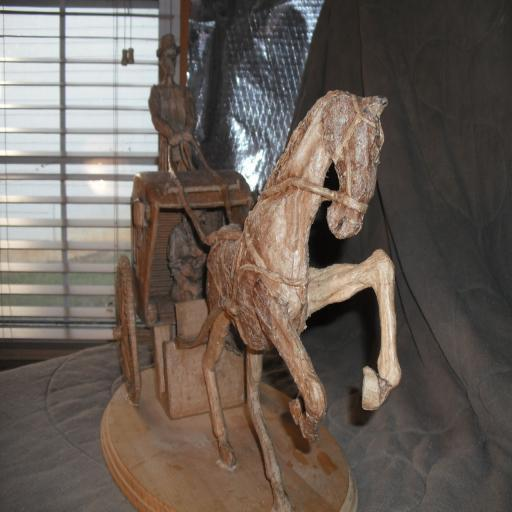horse: (202, 90, 402, 512)
